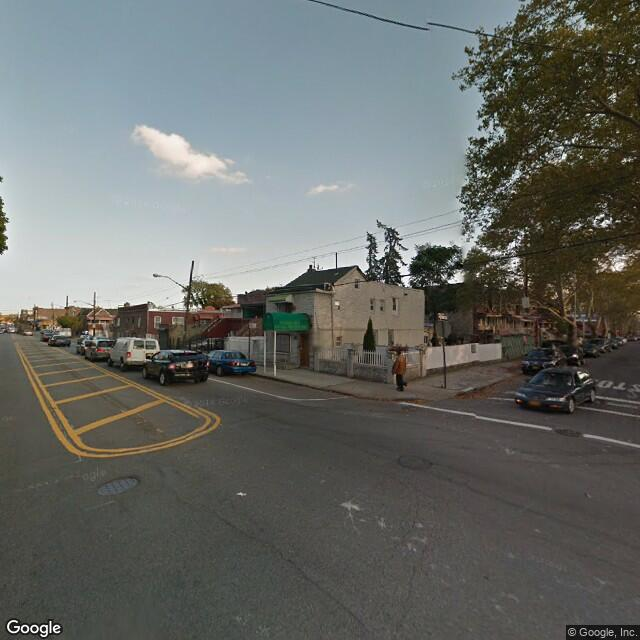litter: (236, 489, 248, 499)
